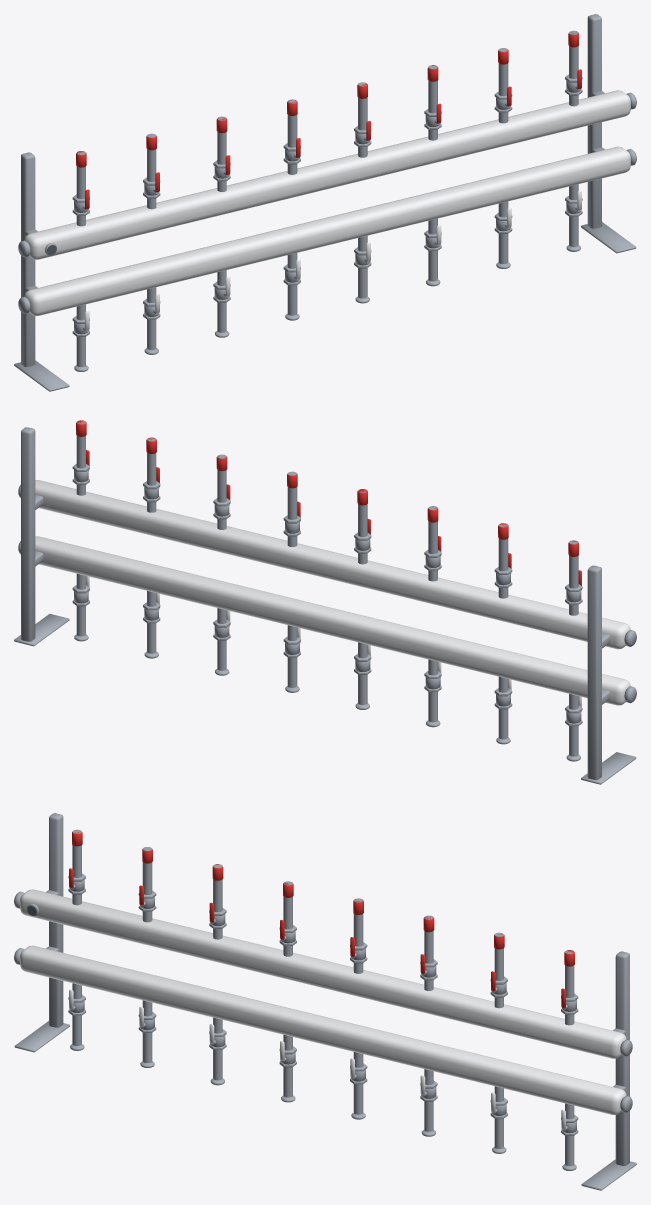
File: heizung.verteiler.n8.glb
The picture shows the model from 3 angles, top to bottom: view 1: azimuth 30°, elevation 25°; view 2: azimuth 150°, elevation 25°; view 3: azimuth 330°, elevation 25°; orthographic projection.
Parts seen in each view (by area): view 1: heizung.verteiler.n8; view 2: heizung.verteiler.n8; view 3: heizung.verteiler.n8.
Boxes of the visible parts, x1,y1,x2,y2 form: heizung.verteiler.n8: [14, 14, 636, 391]; heizung.verteiler.n8: [14, 420, 636, 784]; heizung.verteiler.n8: [14, 813, 636, 1190].
Size of the model in its own units: 2.96 by 1 by 0.3.
